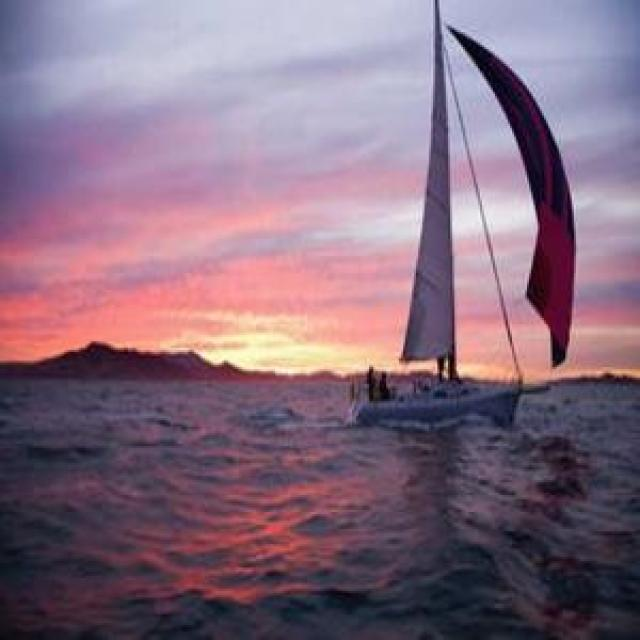sailboat: (343, 0, 576, 425)
